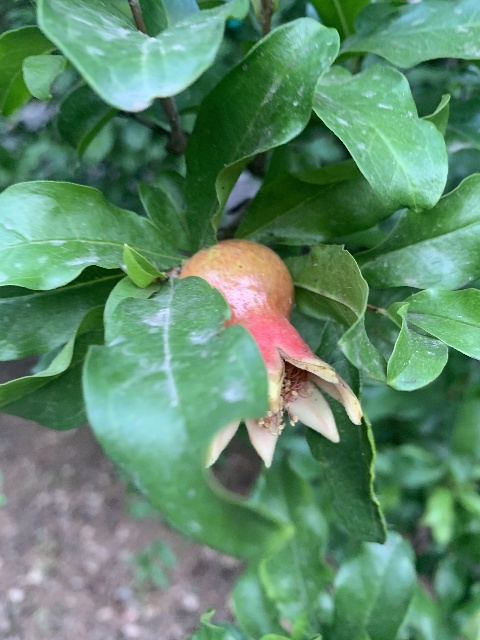early-fruit: (179, 238, 362, 468)
